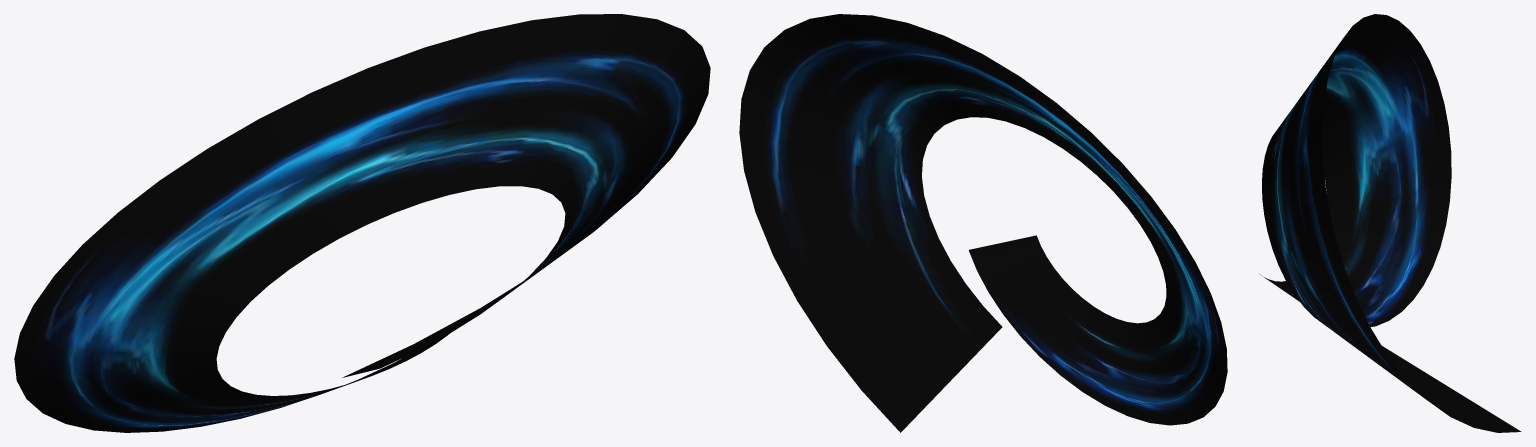
3 renders of one model, left to right at view 1: azimuth 30°, elevation 25°; view 2: azimuth 150°, elevation 25°; view 3: azimuth 270°, elevation 25°, orthographic. The views are drawn at different scales.
Visible parts, largest first — view 1: Helix01; view 2: Helix01; view 3: Helix01.
Boxes of the visible parts, box(x1,y1,x2,y2) form: Helix01: box(14, 14, 710, 432); Helix01: box(739, 14, 1227, 432); Helix01: box(1260, 14, 1521, 432).
Bounding box in the file's own units: 24.22 × 14.65 × 8.89.
1 material, 1 textured.
